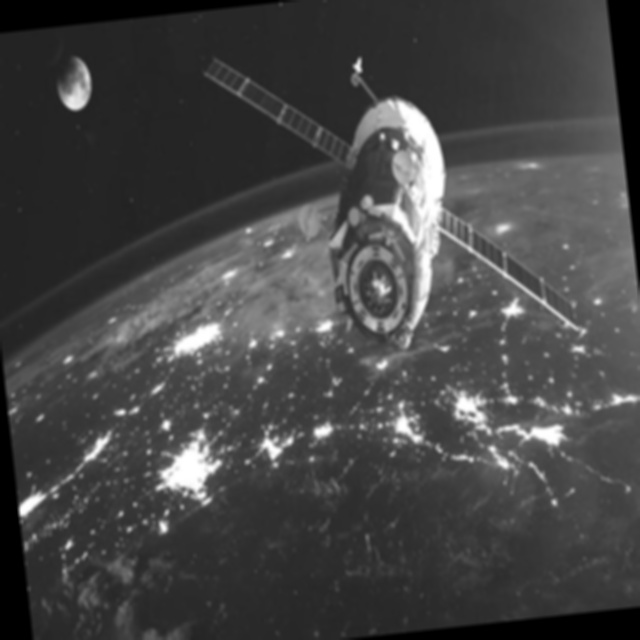satellite: (178, 0, 604, 411)
